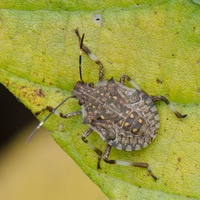insect: (26, 29, 186, 180), (80, 51, 99, 85)
